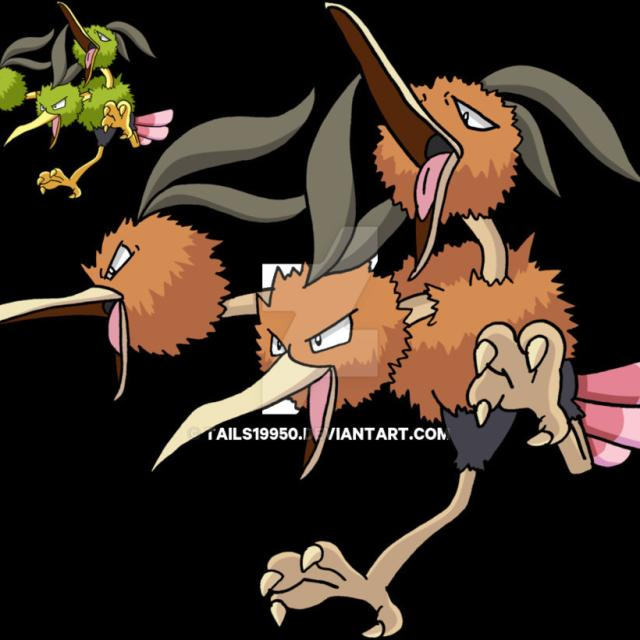Dodrio: (95, 76, 593, 580), (0, 2, 169, 197)
